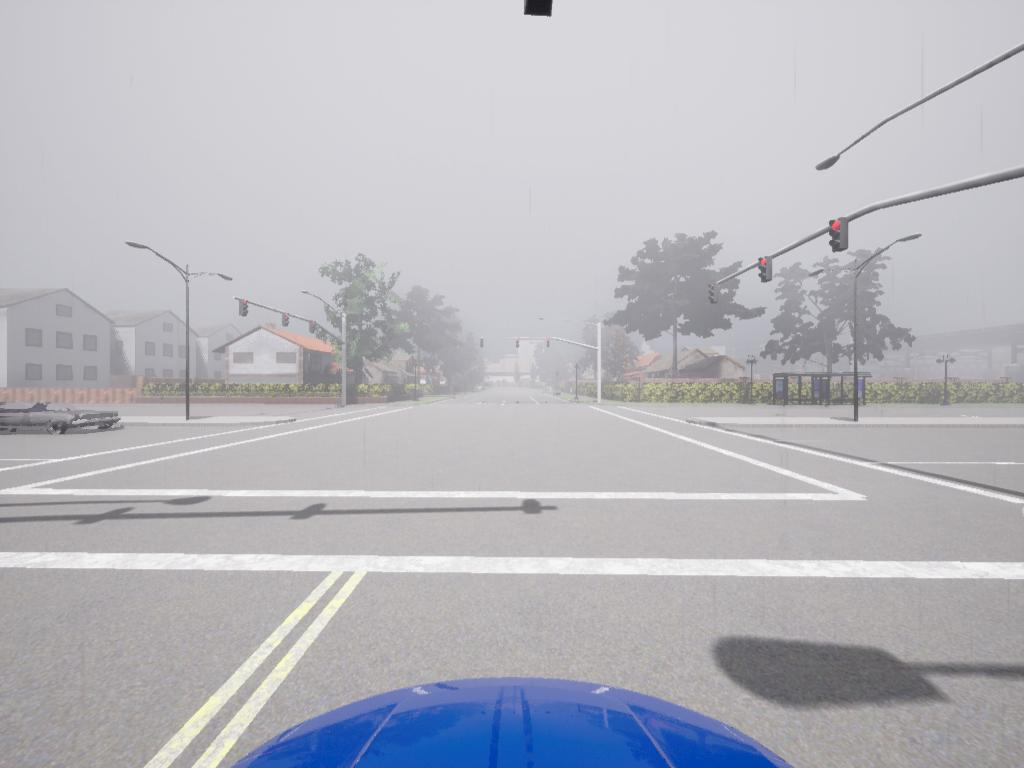traffic_light: (830, 220, 850, 254), (526, 1, 557, 17), (760, 259, 774, 284), (709, 283, 720, 305), (238, 302, 248, 320), (282, 313, 291, 328), (309, 321, 318, 335), (516, 338, 521, 350), (481, 337, 485, 350), (547, 339, 551, 351)
